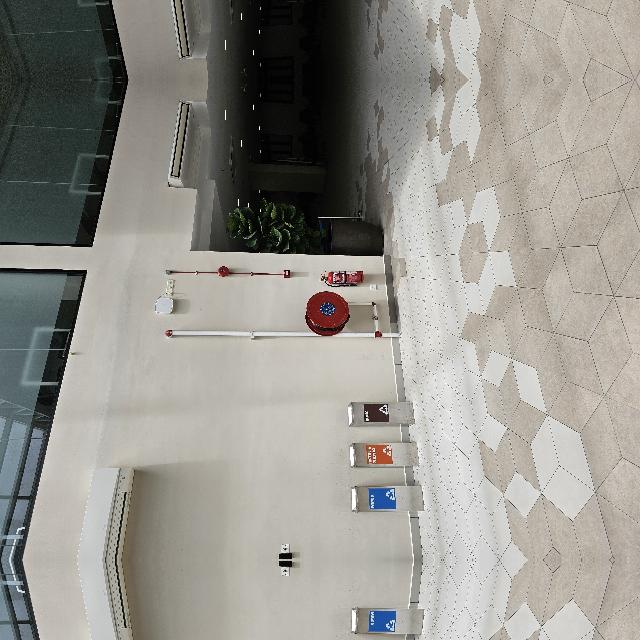obstacle: (214, 381, 298, 467), (43, 432, 79, 503), (90, 427, 122, 497), (134, 424, 160, 492), (43, 616, 79, 640), (90, 623, 121, 640), (133, 628, 160, 640)
